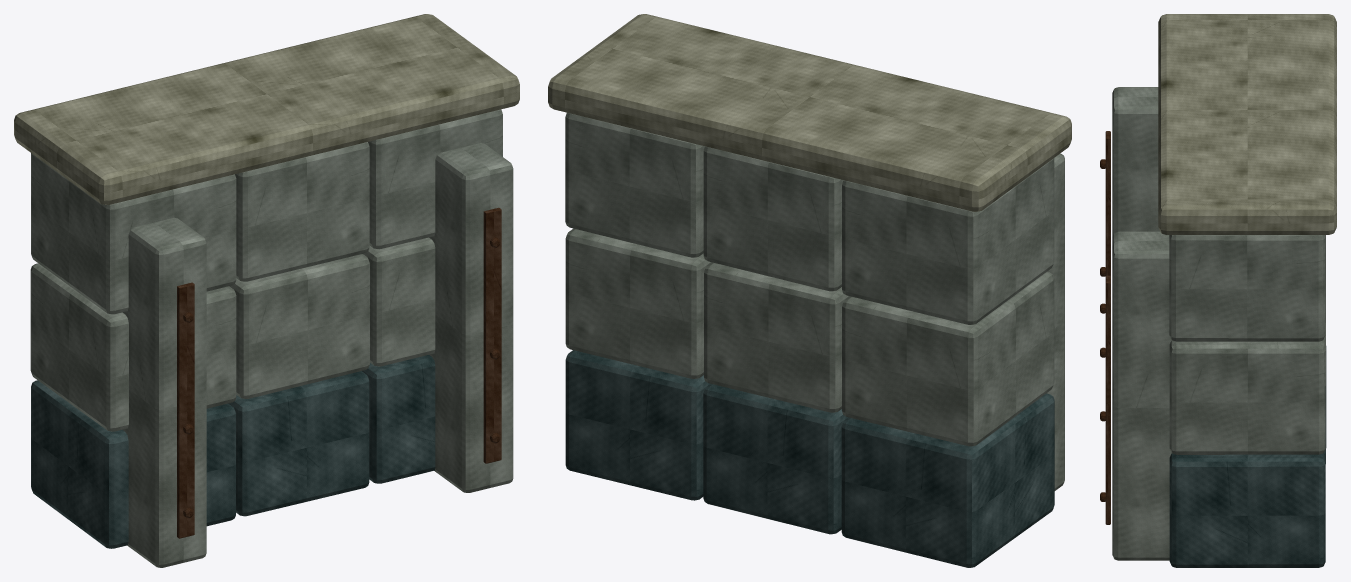
3 views of the same model, side by side, from view 1: azimuth 30°, elevation 25°; view 2: azimuth 150°, elevation 25°; view 3: azimuth 270°, elevation 25° (orthographic). The views are drawn at different scales.
Parts seen in each view (by area): view 1: Coast_seawall; view 2: Coast_seawall; view 3: Coast_seawall.
Boxes of the visible parts, x1,y1,x2,y2 form: Coast_seawall: (14, 14, 519, 567); Coast_seawall: (548, 14, 1071, 567); Coast_seawall: (1100, 14, 1336, 567).
Bounding box in the file's own units: 3.15 × 2.74 × 1.59.
4 materials, 4 textured.
